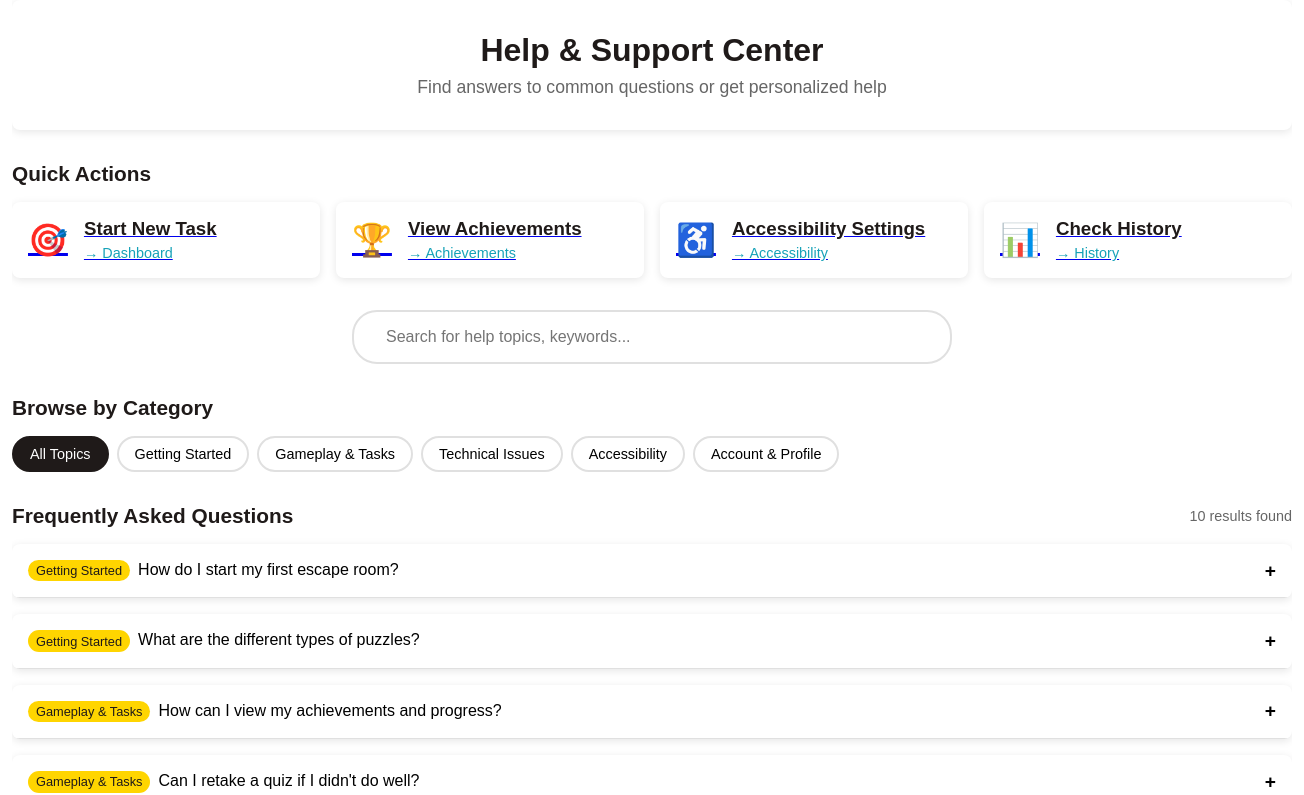
Scenario: StudentHelp (Component) › filters FAQ by Accessibility category
Click the button "Accessibility": (628, 454) [571,436,685,472]
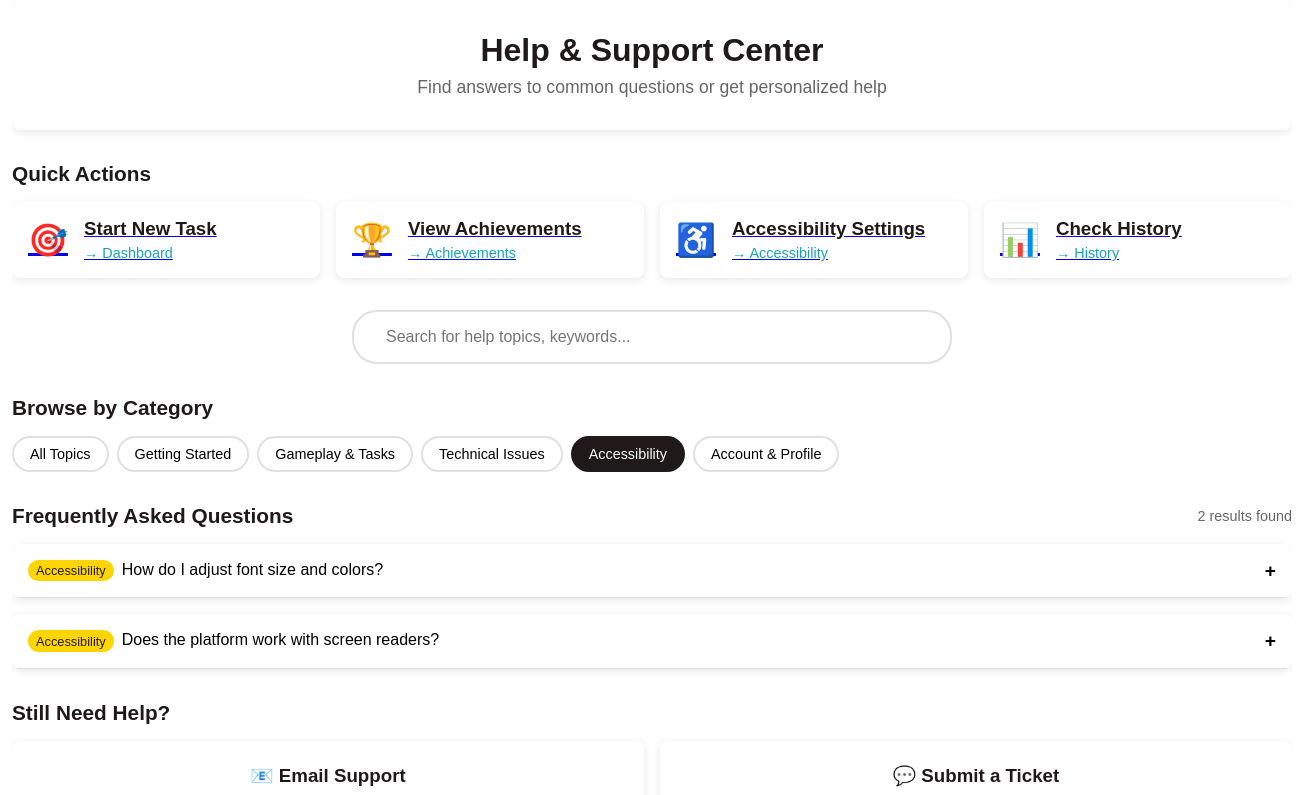
Expected: the 1st text with class "category-badge" reads "Accessibility", [28,560,114,581]
Result: the number of elements with class "faq-item" is at least 1
